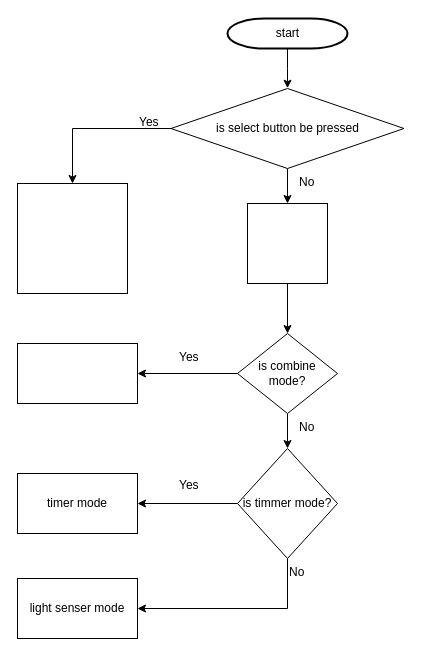
Some shapes in this 422 by 656 pixel diagram are drawn without their labels. The centre of each missing label's shape, as x and y in pixels:
"combine mode" belongs at (77,373).
"programming mode" belongs at (72,238).
"reading configuration from EEPROM" belongs at (287,243).
